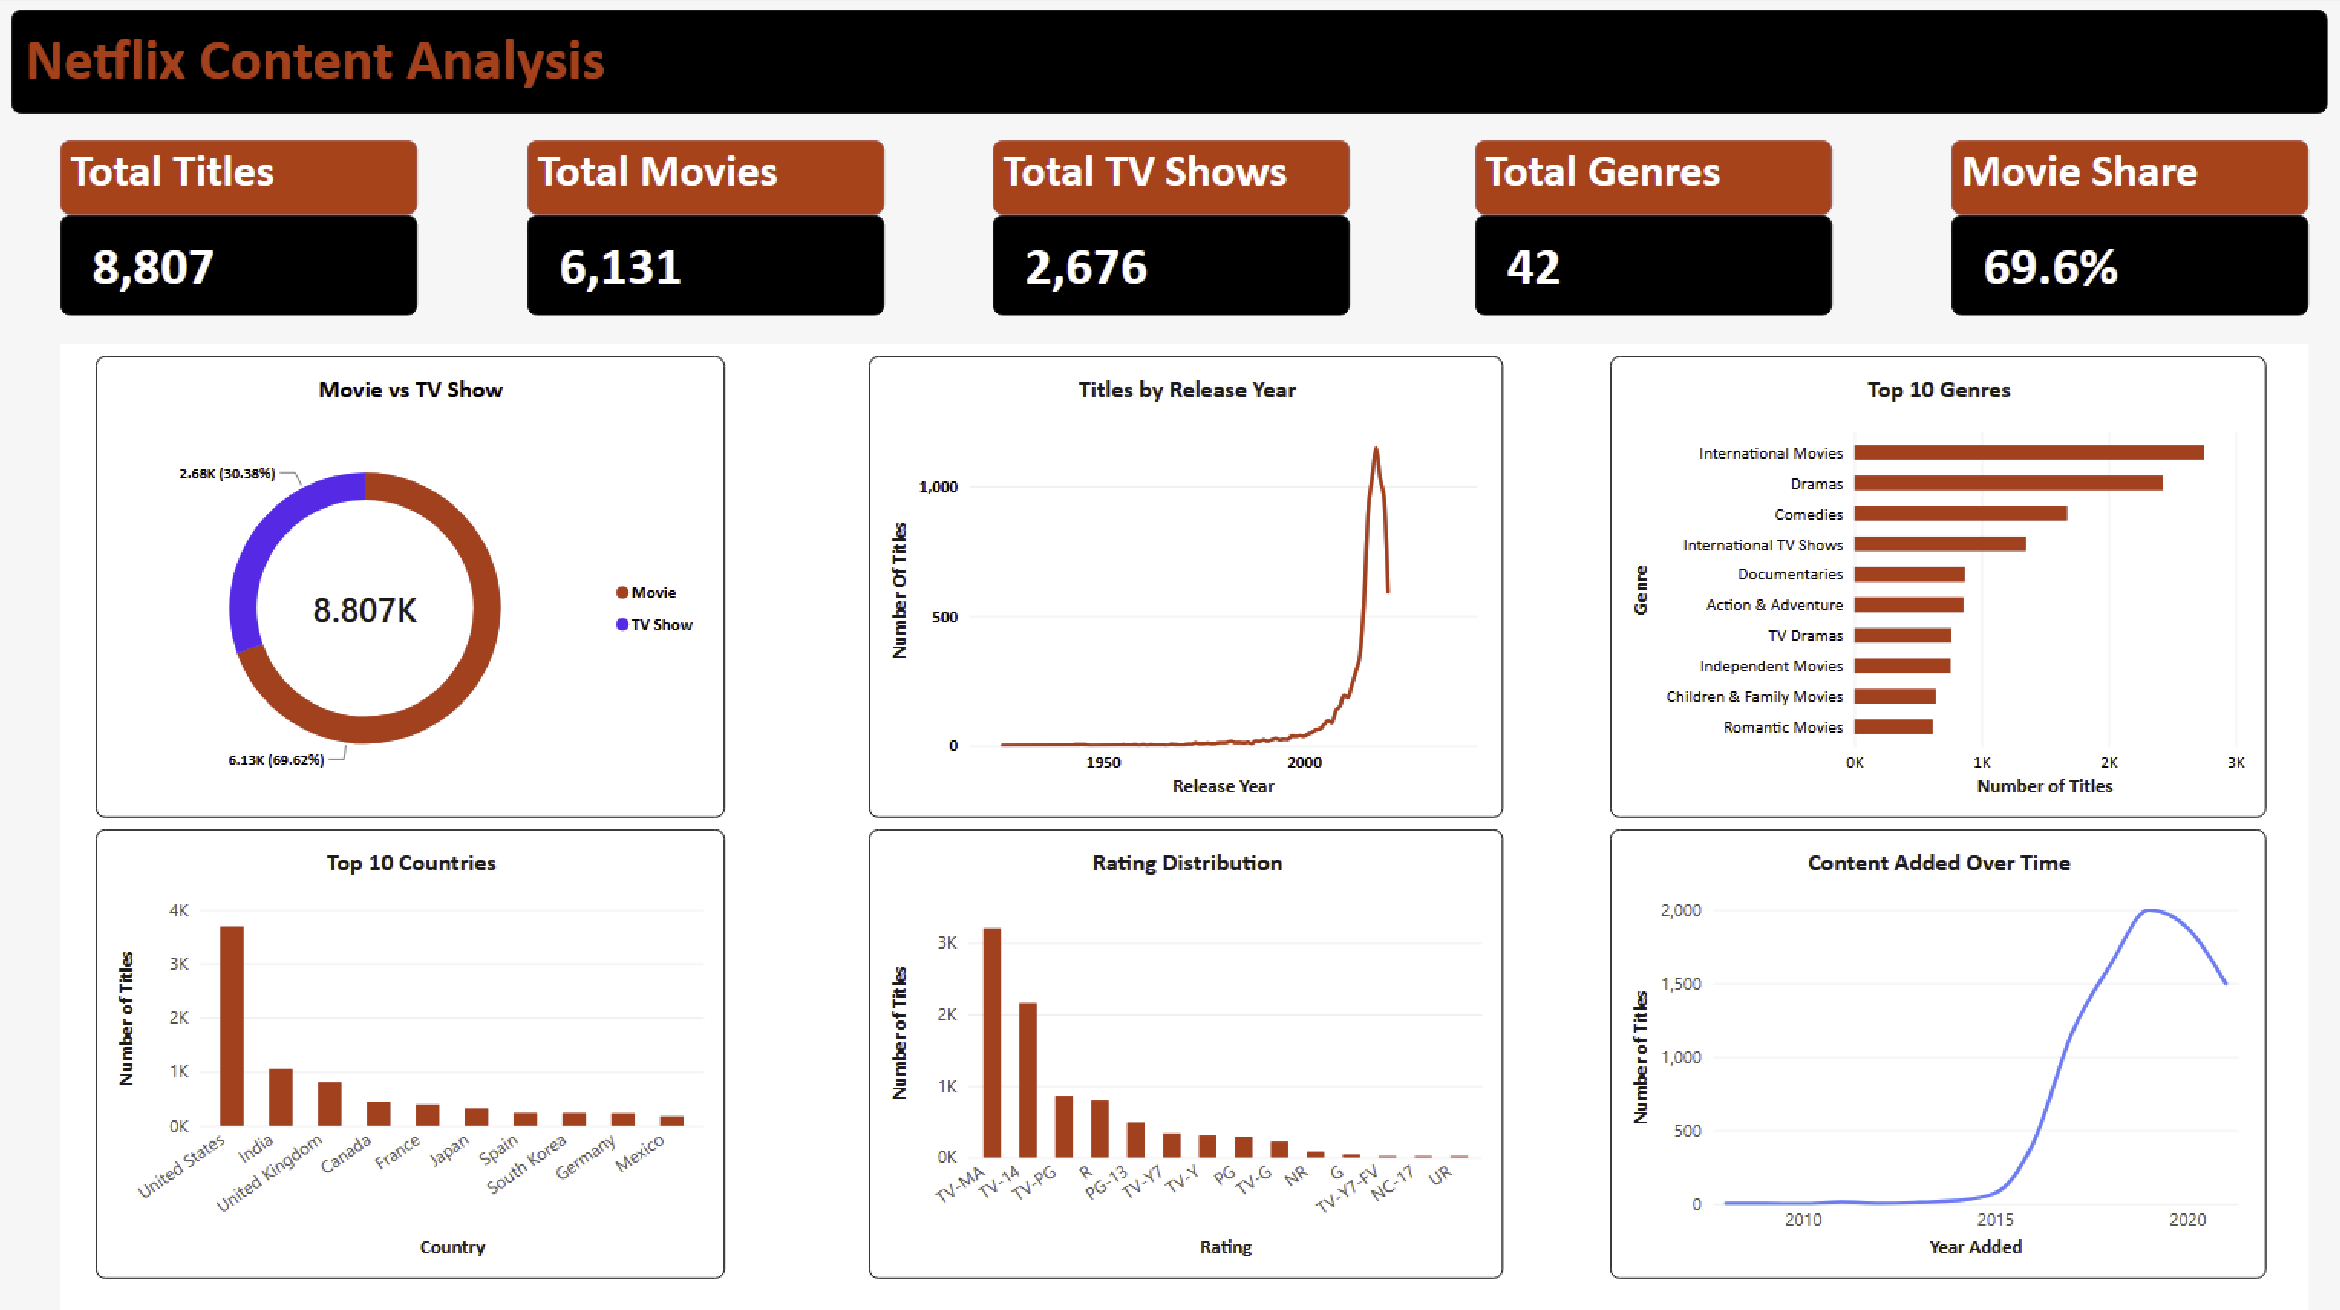

This screenshot's page, from the dashboard's own definition file:
{"tool":"powerbi","page":{"name":"Netflix Content Analysis","canvas":[1920,1080],"ordinal":0},"visuals":[{"type":"textbox","box":[11.7,13.1,1895.2,84.6],"z":0},{"type":"textbox","box":[51.1,119.6,291.8,61.3],"z":1000},{"type":"cardVisual","fields":{"Data":["netflix_data.Total Titles"]},"box":[51.1,180.9,291.8,81.7],"z":2000},{"type":"textbox","box":[433.3,119.6,291.8,61.3],"z":3000},{"type":"cardVisual","fields":{"Data":["netflix_data.Total Movies"]},"box":[433.3,180.9,291.8,81.7],"z":4000},{"type":"textbox","box":[814.1,119.6,291.8,61.3],"z":5000},{"type":"cardVisual","fields":{"Data":["netflix_data.Total TV Shows"]},"box":[814.1,180.9,291.8,81.7],"z":6000},{"type":"textbox","box":[1209.5,119.6,291.8,61.3],"z":7000},{"type":"cardVisual","fields":{"Data":["netflix_data.Total Genres"]},"box":[1209.5,180.9,291.8,81.7],"z":8000},{"type":"textbox","box":[1599,119.6,291.8,61.3],"z":9000},{"type":"cardVisual","fields":{"Data":["netflix_data.Movie Share"]},"box":[1599,180.9,291.8,81.7],"z":10000},{"type":"shape","box":[51.1,286,1839.8,793.7],"z":11000},{"type":"donutChart","title":"Movie vs TV Show","fields":{"Category":["netflix_data.type"],"Y":["CountNonNull(netflix_data.title)"]},"box":[80.2,296.2,515,377.9],"z":12000},{"type":"lineChart","title":"Titles by Release Year","fields":{"Category":["netflix_data.release_year"],"Y":["CountNonNull(netflix_data.title)"]},"box":[713.4,296.2,519.4,377.9],"z":13000},{"type":"barChart","title":"Top 10 Genres","fields":{"Category":["Genres.listed_in"],"Y":["CountNonNull(Genres.listed_in)"]},"box":[1318.9,296.2,536.9,377.9],"z":14000},{"type":"columnChart","title":"Top 10 Countries","fields":{"Category":["countries.country"],"Y":["CountNonNull(countries.country)"]},"box":[80.2,682.8,515,367.7],"z":15000},{"type":"columnChart","title":"Rating Distribution","fields":{"Category":["netflix_data.rating"],"Y":["CountNonNull(netflix_data.title)"]},"box":[713.4,682.8,519.4,367.7],"z":16000},{"type":"lineChart","title":"Content Added Over Time","fields":{"Category":["netflix_data.date_added.Variation.Date Hierarchy.Year","netflix_data.date_added.Variation.Date Hierarchy.Quarter","netflix_data.date_added.Variation.Date Hierarchy.Month","netflix_data.date_added.Variation.Date Hierarchy.Day"],"Y":["CountNonNull(netflix_data.title)"]},"box":[1318.9,682.8,536.9,367.7],"z":17000}]}

Visuals, with their boxes in screenshot pixels (x1, y1, x2, y2), scaled from the page's 1920x1080 canvas onto the 2340x1310 screenshot:
textbox: l=14, t=16, r=2324, b=119
textbox: l=62, t=145, r=418, b=219
cardVisual - netflix_data.Total Titles: l=62, t=219, r=418, b=319
textbox: l=528, t=145, r=884, b=219
cardVisual - netflix_data.Total Movies: l=528, t=219, r=884, b=319
textbox: l=992, t=145, r=1348, b=219
cardVisual - netflix_data.Total TV Shows: l=992, t=219, r=1348, b=319
textbox: l=1474, t=145, r=1830, b=219
cardVisual - netflix_data.Total Genres: l=1474, t=219, r=1830, b=319
textbox: l=1949, t=145, r=2304, b=219
cardVisual - netflix_data.Movie Share: l=1949, t=219, r=2304, b=319
shape: l=62, t=347, r=2305, b=1309
"Movie vs TV Show" donutChart: l=98, t=359, r=725, b=818
"Titles by Release Year" lineChart: l=869, t=359, r=1502, b=818
"Top 10 Genres" barChart: l=1607, t=359, r=2262, b=818
"Top 10 Countries" columnChart: l=98, t=828, r=725, b=1274
"Rating Distribution" columnChart: l=869, t=828, r=1502, b=1274
"Content Added Over Time" lineChart: l=1607, t=828, r=2262, b=1274
